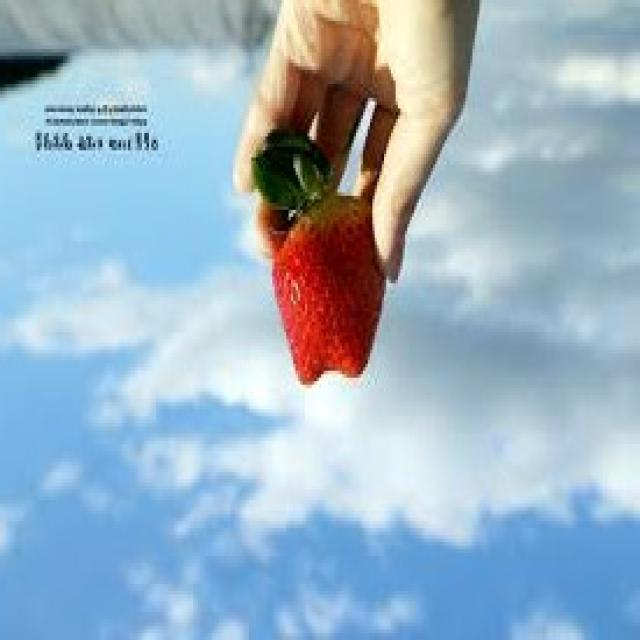mature: (273, 200, 388, 384)
